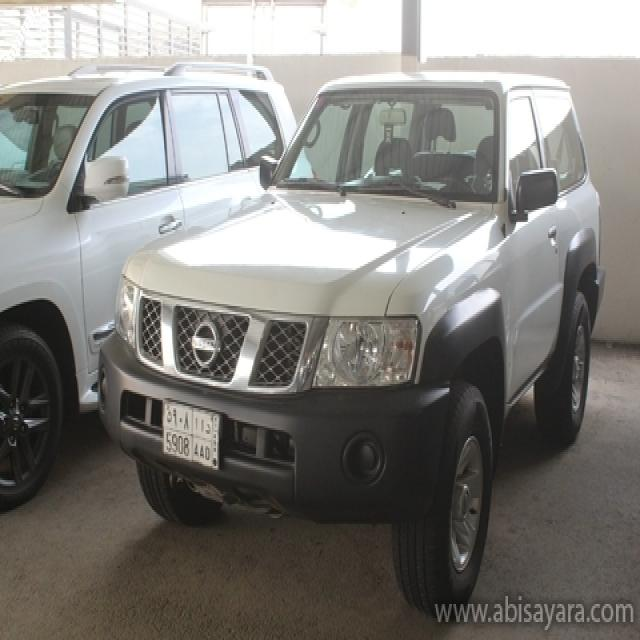license_plate: (161, 396, 223, 474)
